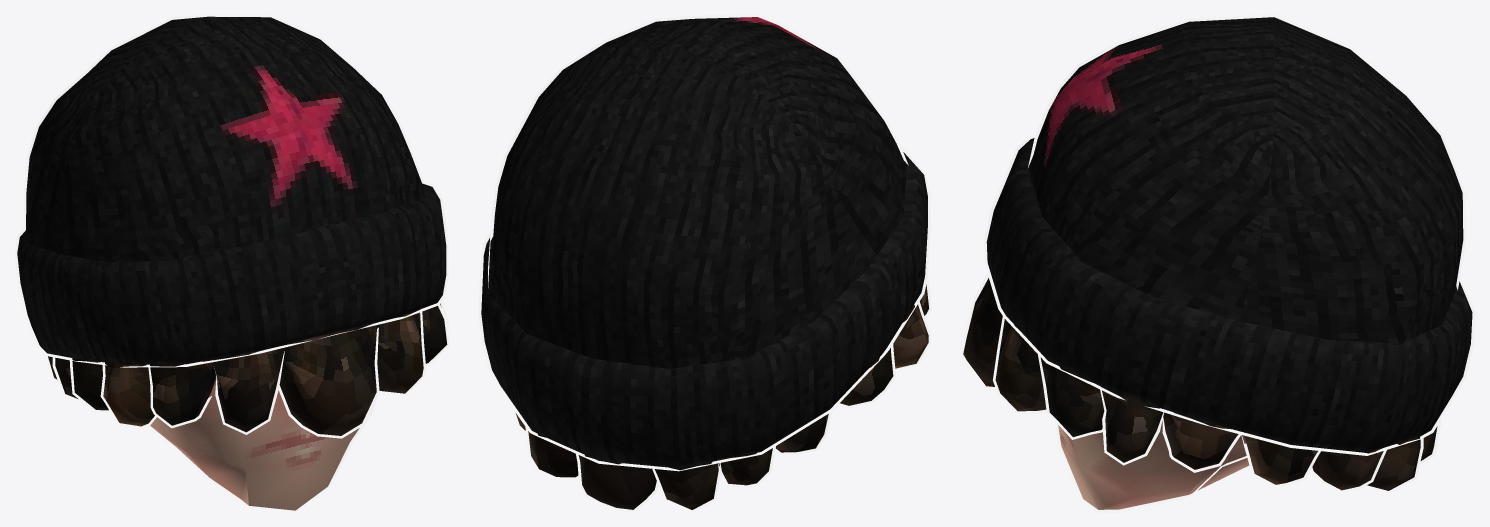
The model's file is 1765412829156-Lucas_web2.glb.
3 views of the same model, side by side, from view 1: azimuth 30°, elevation 25°; view 2: azimuth 150°, elevation 25°; view 3: azimuth 270°, elevation 25° (orthographic). The views are drawn at different scales.
Visible parts, largest first — view 1: Cube.006, Plane.003, Cube.007; view 2: Cube.006, Plane.003; view 3: Cube.006, Plane.003, Cube.007.
Part boxes in pixels (x1,y1,x2,y2): Cube.006: (14, 14, 448, 367); Plane.003: (44, 301, 449, 438); Cube.007: (147, 379, 378, 512); Cube.006: (478, 14, 930, 471); Plane.003: (510, 278, 931, 512); Cube.006: (983, 14, 1475, 455); Plane.003: (960, 273, 1441, 493); Cube.007: (1054, 420, 1249, 512).
Bounding box in the file's own units: 0.5996 × 0.6928 × 0.6854.
Materials: 2 (1 with a texture image).
